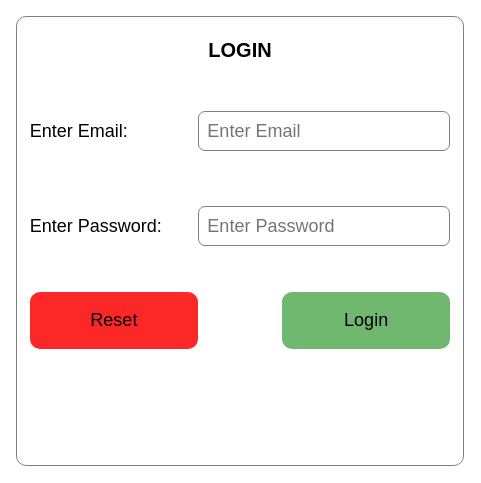
Login Component › should clear input fields on firing reset
This screenshot has width=481, height=483.
Type "test@gmail.com" into the field with placeholder "Enter Email" at [324, 131], box [198,111,450,151]
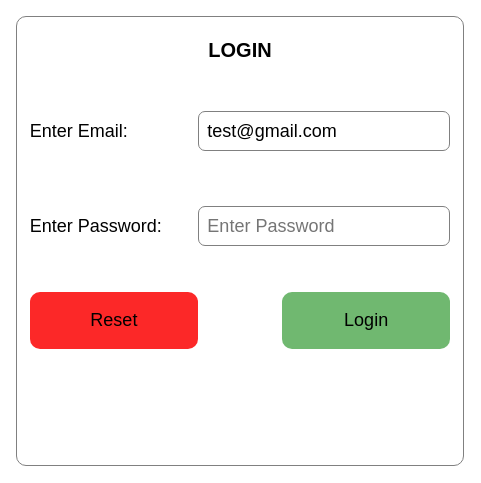
Type "test@user" into the password field with placeholder "Enter Password" at [324, 226], box [198,206,450,246]
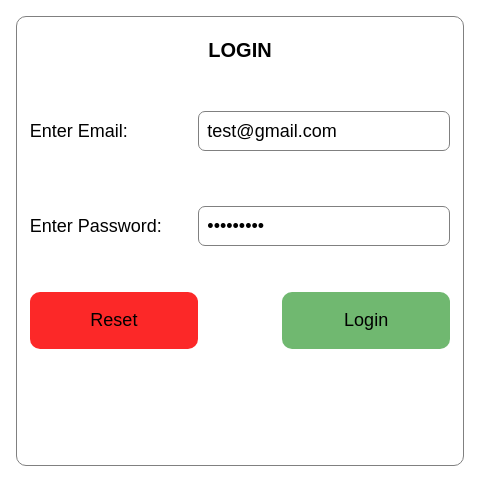
Click the button "Reset" at [114, 320], box [30,292,198,349]
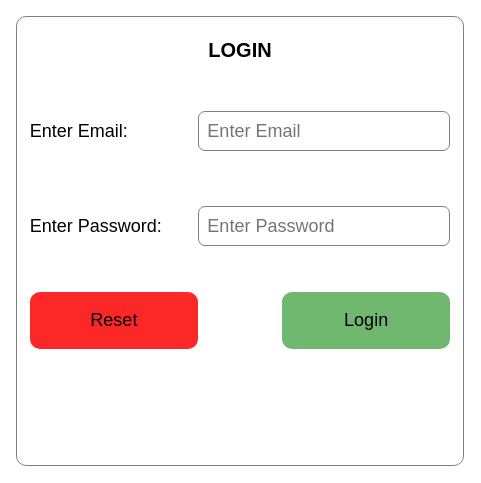
Expected: the field with placeholder "Enter Email" is empty, [198,111,450,151]
Expected: the password field with placeholder "Enter Password" is empty, [198,206,450,246]
